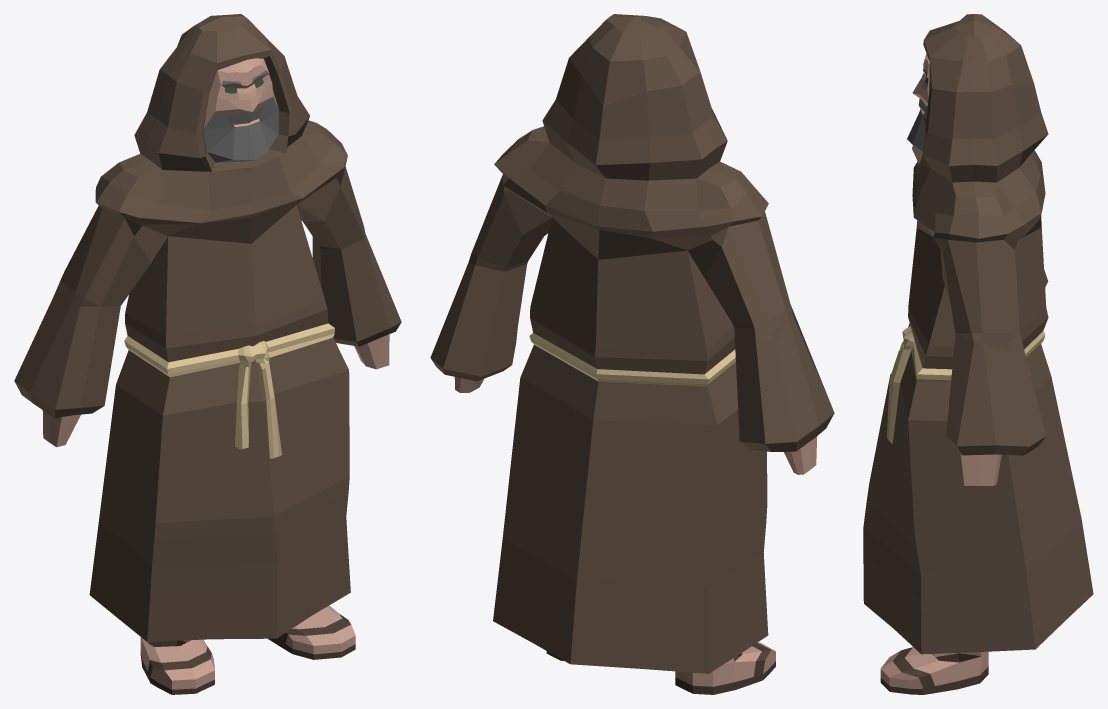
File: monkScaled.fbx
3 renders of one model, left to right at view 1: azimuth 30°, elevation 25°; view 2: azimuth 150°, elevation 25°; view 3: azimuth 270°, elevation 25°, orthographic. The views are drawn at different scales.
Visible parts, largest first — view 1: Cylinder; view 2: Cylinder; view 3: Cylinder.
Part boxes in pixels (x1=…): Cylinder: x1=14, y1=14, x2=401, y2=694; Cylinder: x1=430, y1=14, x2=834, y2=694; Cylinder: x1=863, y1=14, x2=1093, y2=694.
Size of the model in its own units: 1.04 by 1.75 by 0.5803.
